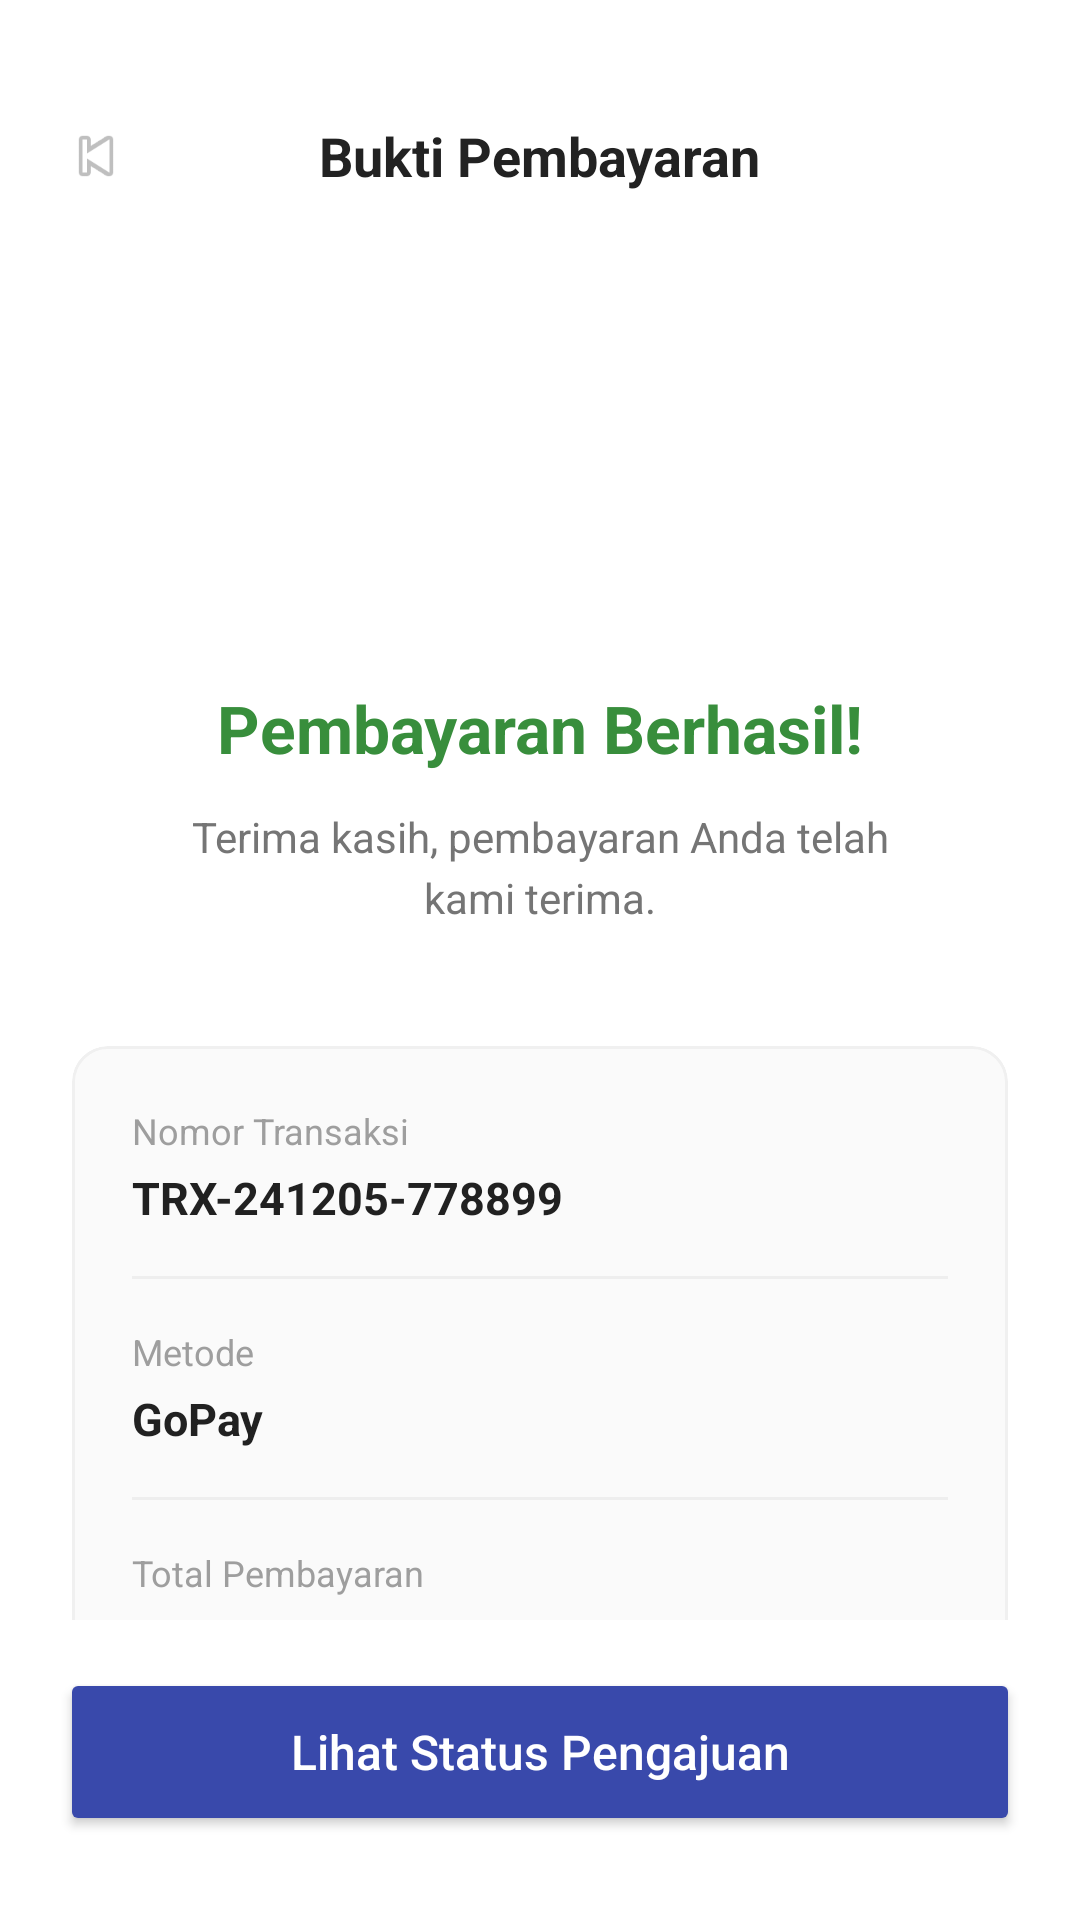

Where to tap for icons on this 1080x1920 app screen, as (x,y):
previous: (96,156)
